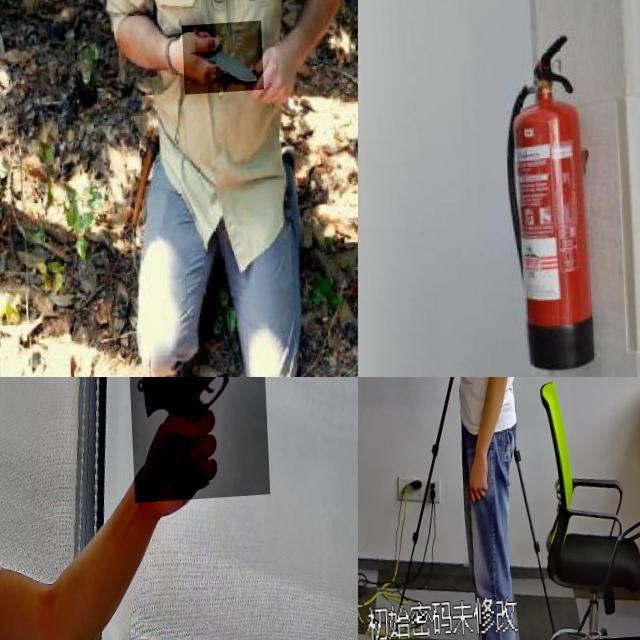-: (181, 26, 262, 99), (358, 317, 394, 369)
gun-knife-thesis - v11 Yolov5 augmented: (125, 377, 267, 507), (358, 377, 388, 407)
